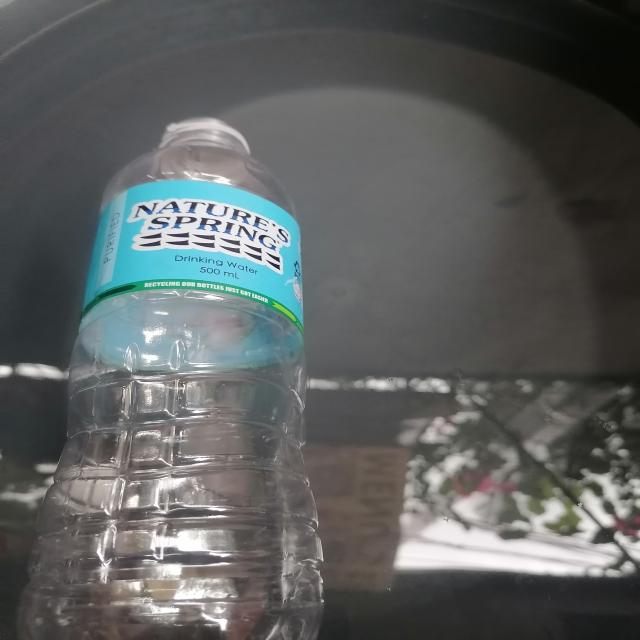Plastic Bottle: (18, 118, 324, 640)
